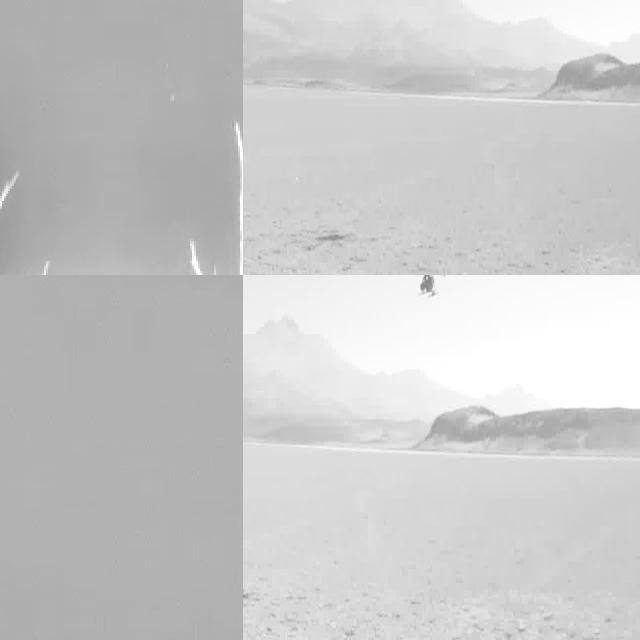0: (162, 81, 186, 116), (0, 619, 9, 640)
drone: (399, 275, 457, 300)
